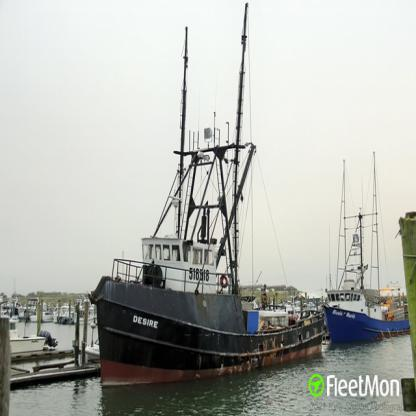Fishing Boat: (89, 2, 324, 387), (323, 150, 415, 345)
